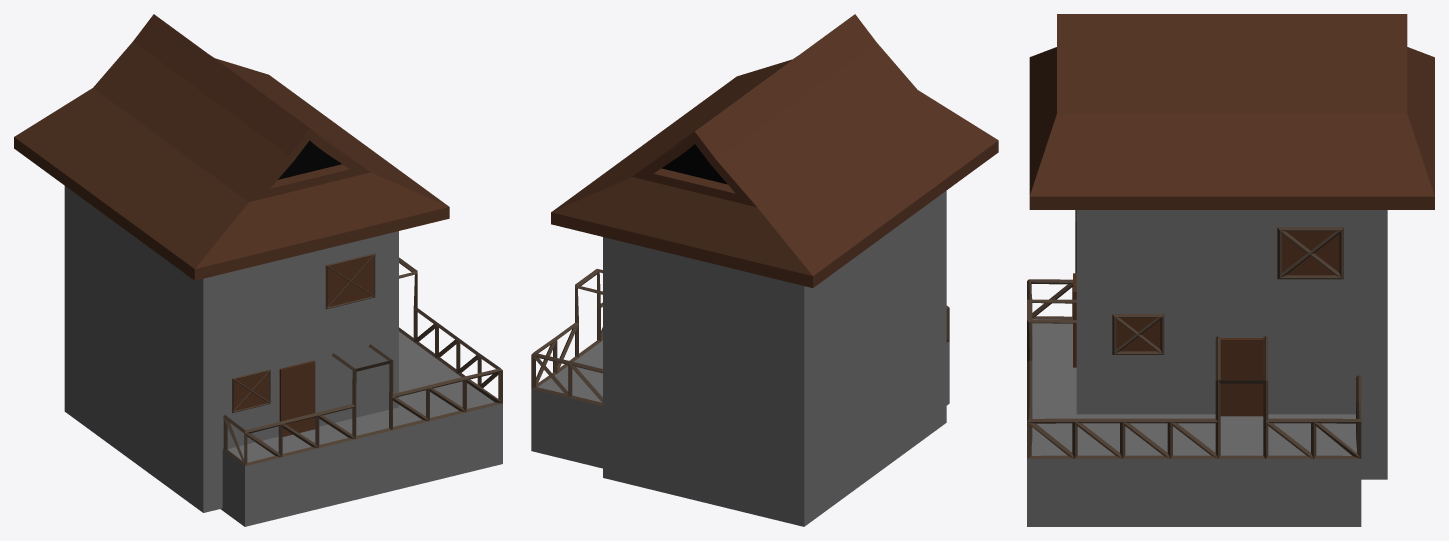
Rendered from Casa.fbx.
The picture shows the model from 3 angles, left to right: view 1: azimuth 30°, elevation 25°; view 2: azimuth 150°, elevation 25°; view 3: azimuth 270°, elevation 25°; orthographic projection. The views are drawn at different scales.
Visible parts, largest first — view 1: Casa; view 2: Casa; view 3: Casa.
Boxes of the visible parts, x1=… form: Casa: x1=14, y1=14, x2=502, y2=526; Casa: x1=531, y1=14, x2=998, y2=526; Casa: x1=1027, y1=14, x2=1434, y2=526.
Bounding box in the file's own units: 187 × 216 × 192.
